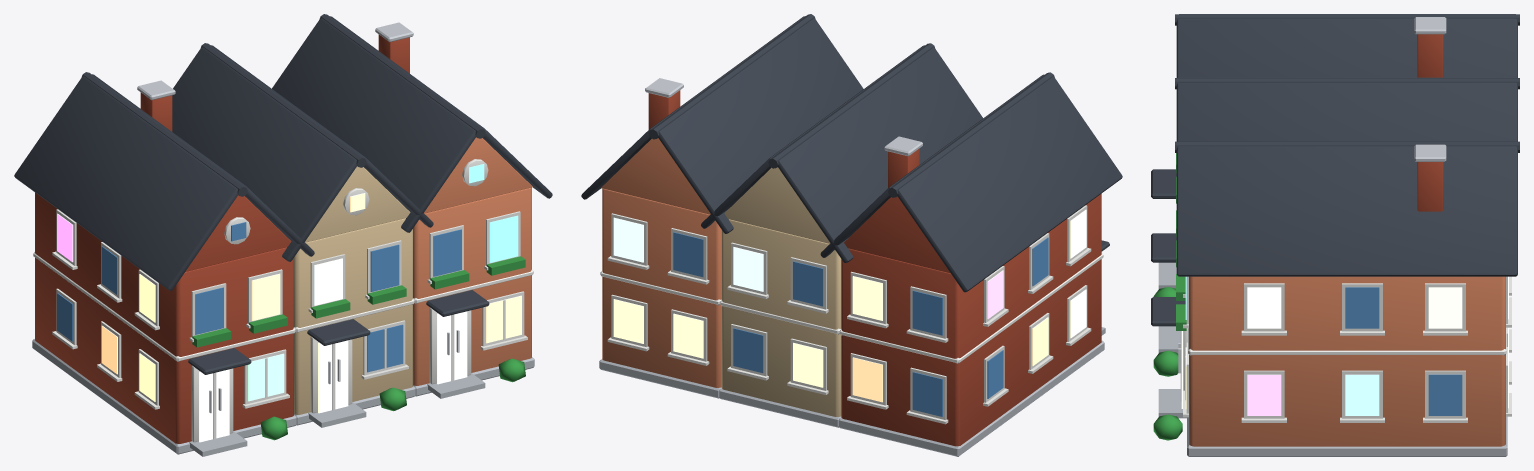
Rendered from casas_geminadas_tijolo.glb.
The picture shows the model from 3 angles, left to right: view 1: azimuth 30°, elevation 25°; view 2: azimuth 150°, elevation 25°; view 3: azimuth 270°, elevation 25°; orthographic projection. The views are drawn at different scales.
Visible parts, largest first — view 1: casas_geminadas_tijolo; view 2: casas_geminadas_tijolo; view 3: casas_geminadas_tijolo.
Boxes of the visible parts, x1,y1,x2,y2 form: casas_geminadas_tijolo: (14, 14, 552, 456); casas_geminadas_tijolo: (581, 14, 1122, 456); casas_geminadas_tijolo: (1151, 14, 1519, 456).
Size of the model in its own units: 12.95 by 8.5 by 9.77.
Materials: 8 (1 with a texture image).
